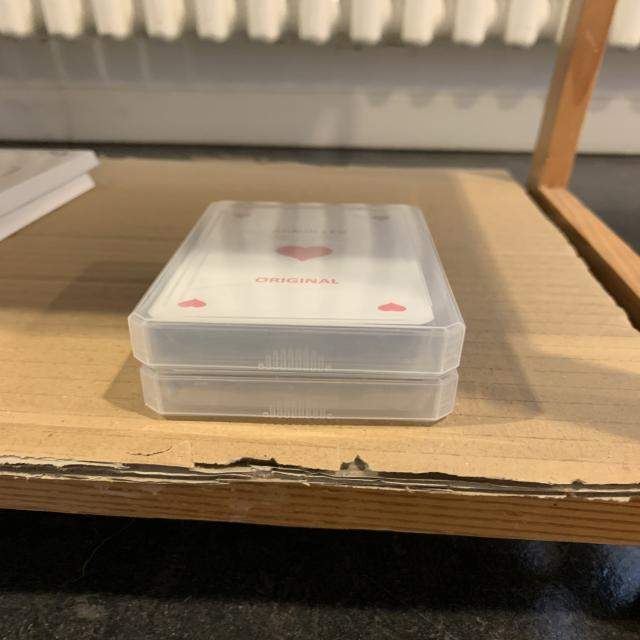Jasskarte: (128, 200, 466, 374), (140, 366, 458, 422)
